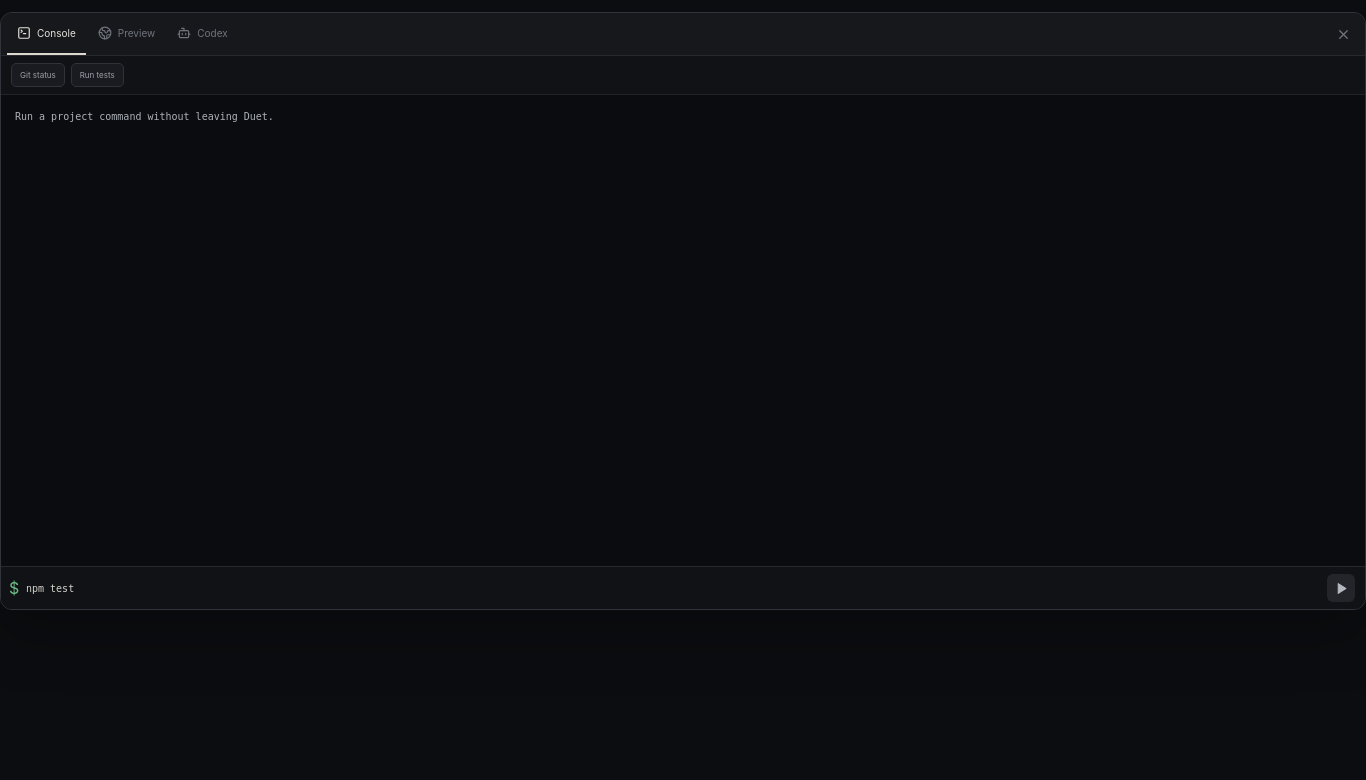
Scenario: WorkspaceTools › rejects non-local preview origins
Click the tab "Preview" at {"x": 127, "y": 34}, box [88,13,165,55]
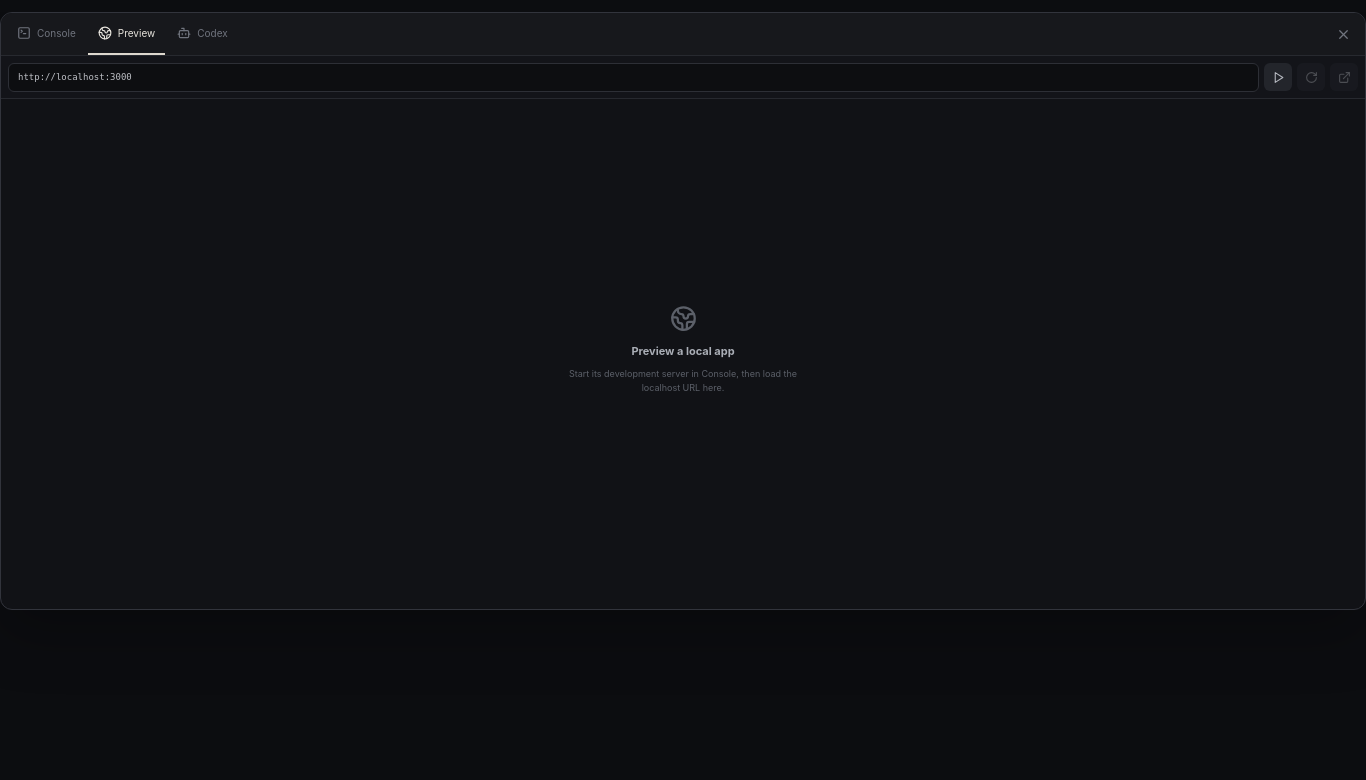
Replace the text in the field named "Preview URL" with "https://example.com" at {"x": 634, "y": 77}, box [8,62,1259,92]
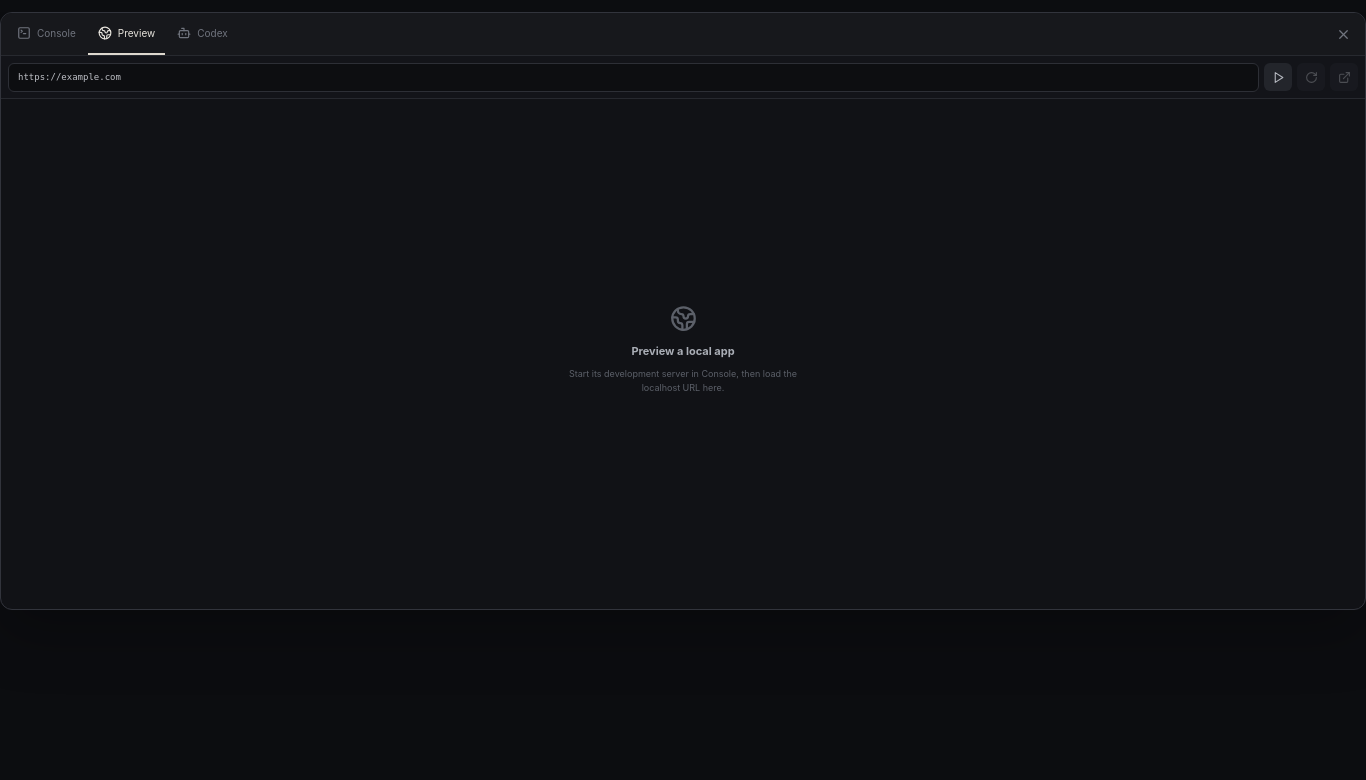
Click the button named "Load preview" at {"x": 1278, "y": 77}, box [1264,63,1292,91]
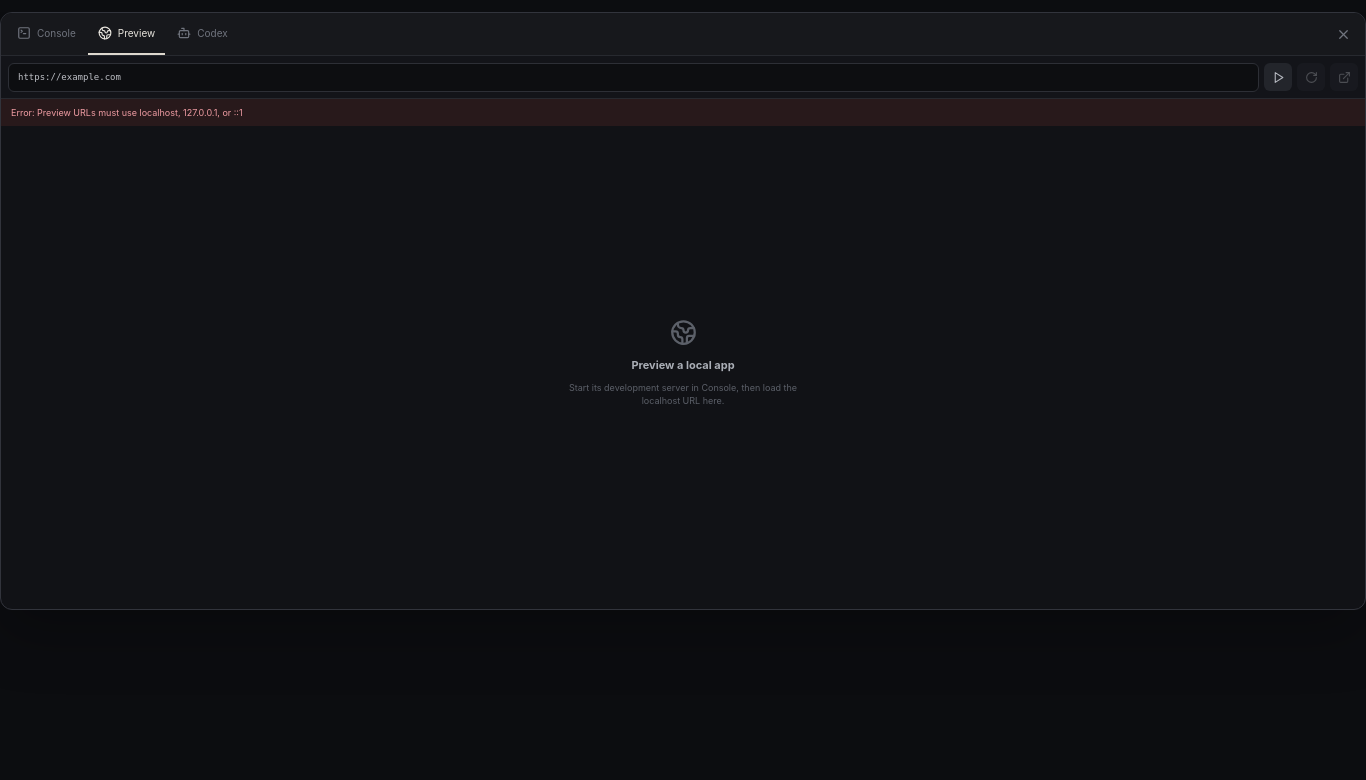
Now the message shows "must use localhost", box [11,107,243,118]
